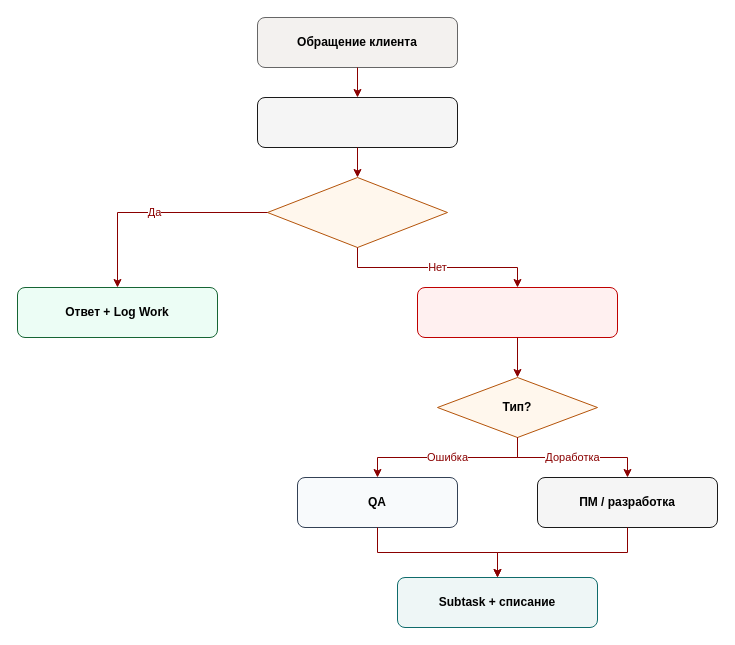
Image size: 735x645. Some labels were removed from this diagram. Here are the shapes that lost their labels. From the top down, the box of each, then its label:
(256, 96, 458, 148): 1-я линия\nIssue в SD
(266, 176, 448, 248): Консультация?
(416, 286, 618, 338): Issue в Epic Сервис
